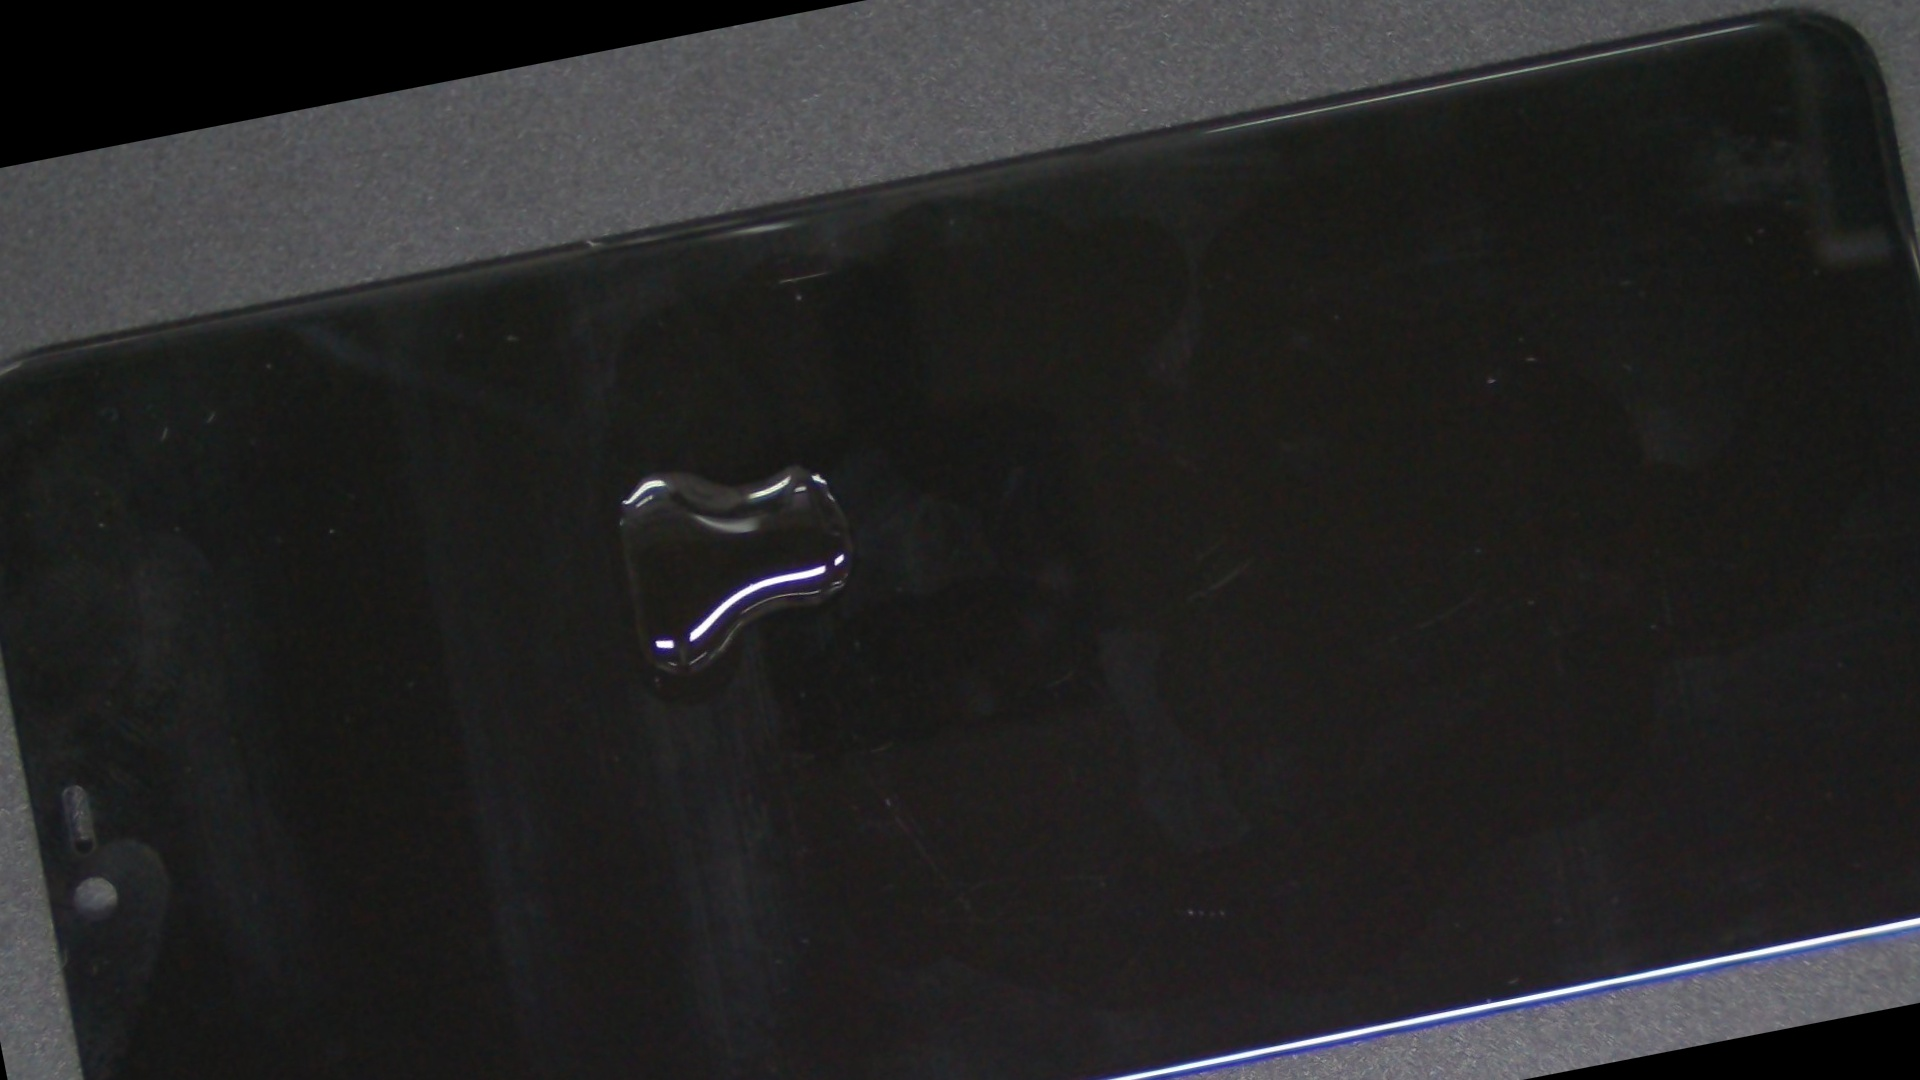oil: (252, 189, 1081, 750)
